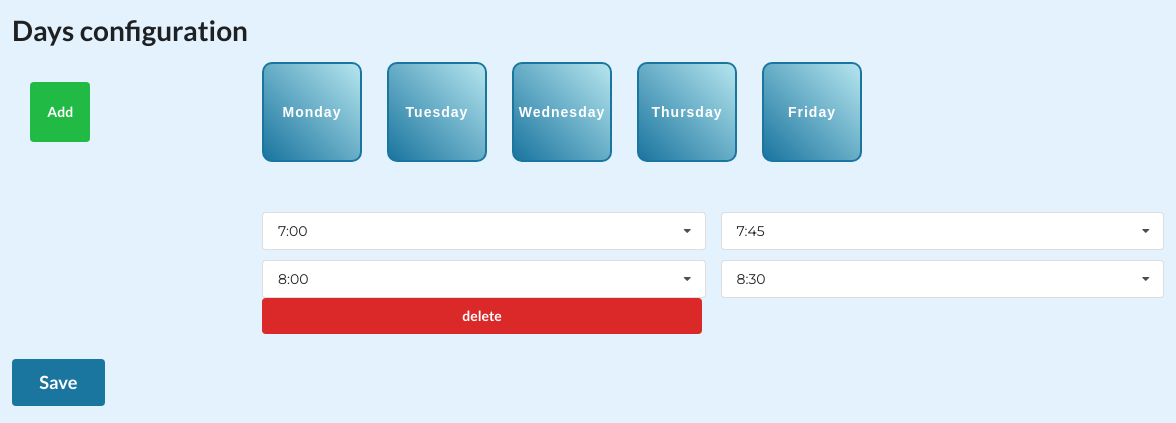
Test: ConfigureDays › when renders › should allow the user to select a day
Click the text "Thursday" at coordinates (687, 112), box top-left (637, 62), bottom-right (737, 162)
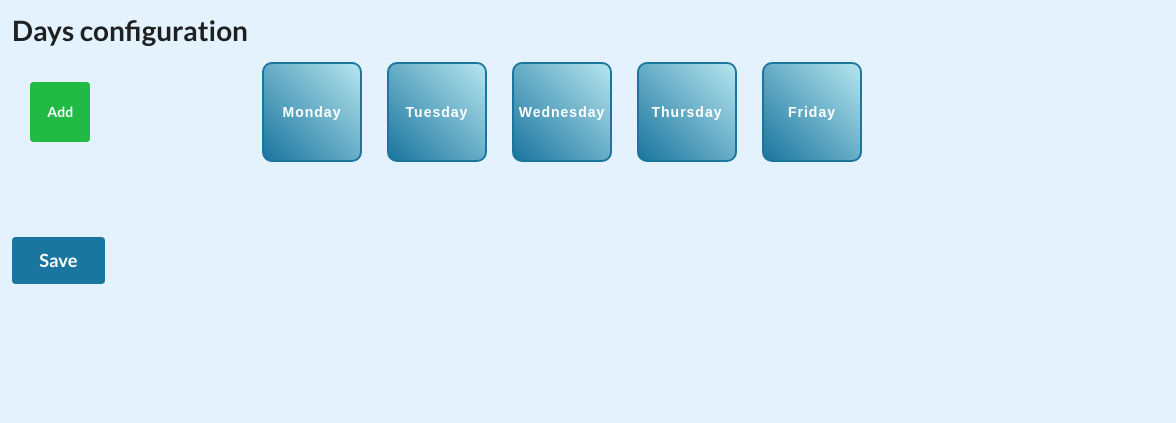
Check: no elements with test id "day-hour-range" are shown
Click the text "Tuesday" at coordinates (437, 112), box top-left (387, 62), bottom-right (487, 162)
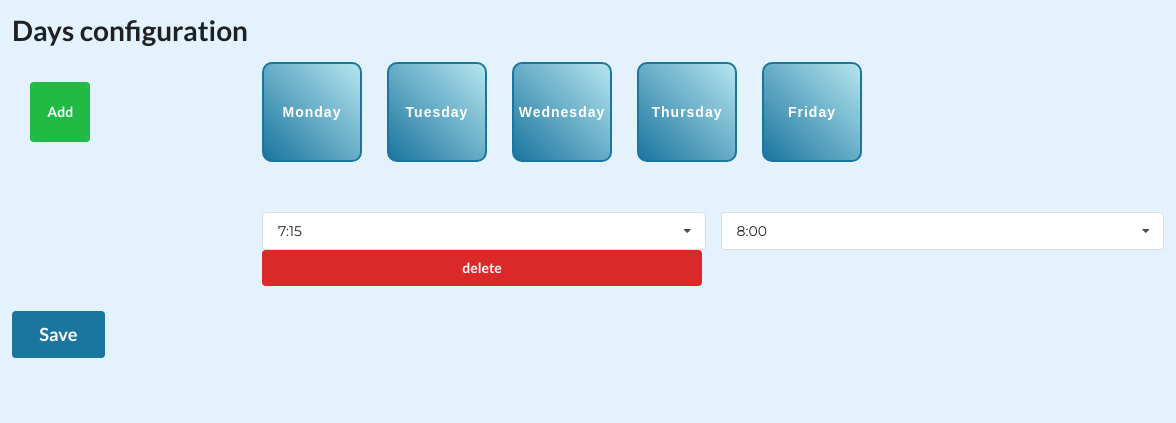
Check: the number of elements with test id "day-hour-range" is 1, box top-left (262, 212), bottom-right (1164, 286)
